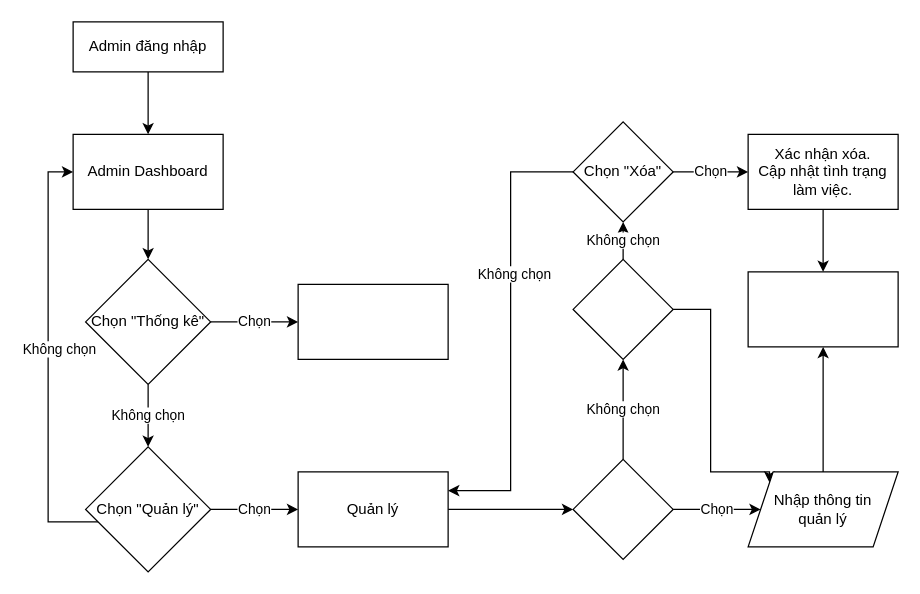
Image size: 920x594. Some labels were removed from this diagram. Each missing label, with the centre of its shape:
Chọn "Sửa quản lý": [622,308]
Chọn "Thêm quản lý": [622,508]
Lưu thông tin quản lý: [822,309]
Thống kê: [372,321]
